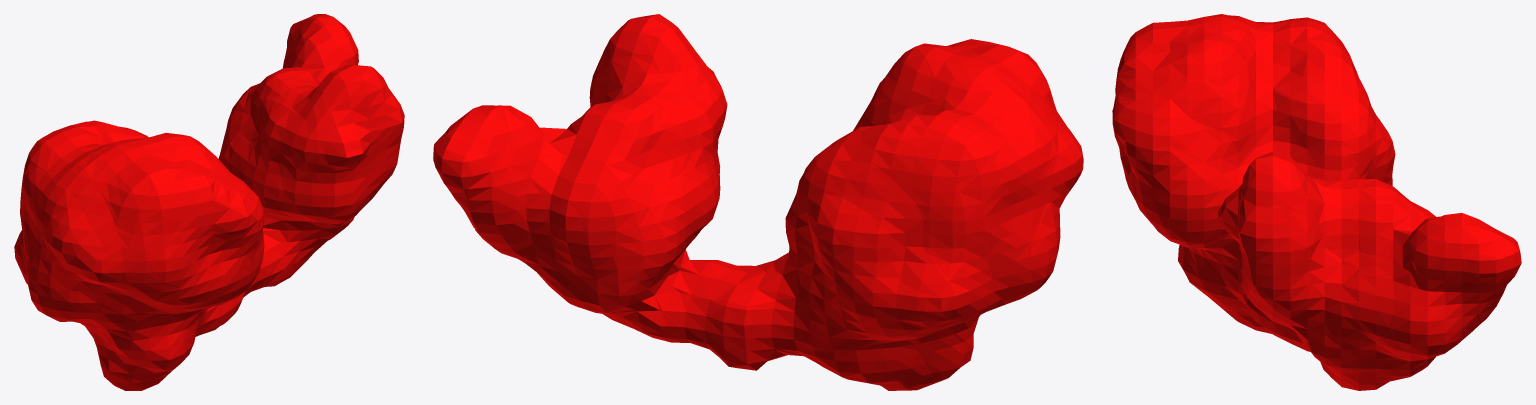
The model's file is prmA_coarse.dae.
3 renders of one model, left to right at view 1: azimuth 30°, elevation 25°; view 2: azimuth 150°, elevation 25°; view 3: azimuth 270°, elevation 25°, orthographic. The views are drawn at different scales.
Visible parts, largest first — view 1: prmA; view 2: prmA; view 3: prmA.
Boxes of the visible parts, x1,y1,x2,y2 form: prmA: (14,14,404,390); prmA: (433,14,1083,390); prmA: (1112,14,1521,390).
Size of the model in its own units: 79.74 by 49.2 by 61.91.
